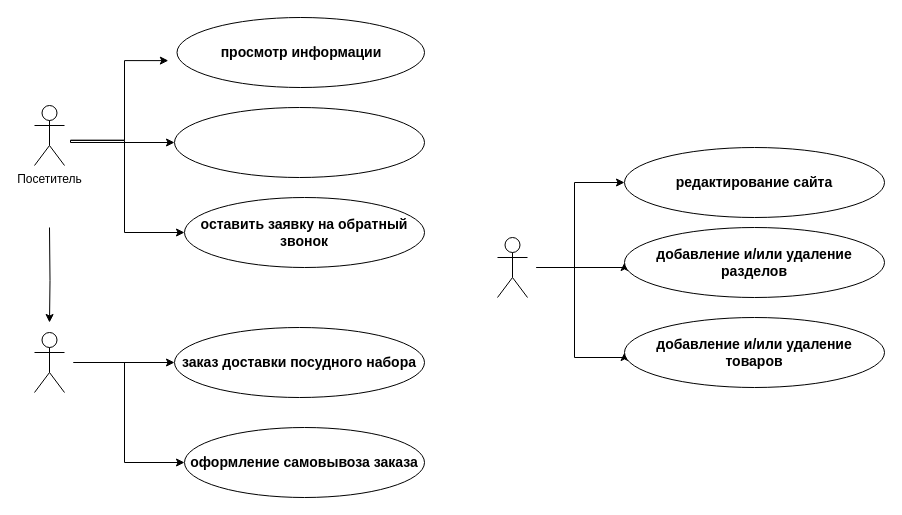
The diagram is 902 pixels wide and 515 high, and some of its shapes have lost their labels. Here are the shapes that lost their labels. From the top down, the box of each, then its label:
(174, 106, 424, 178): выбор посудного набора
(496, 236, 528, 298): Администратор
(34, 332, 64, 392): Покупатель
